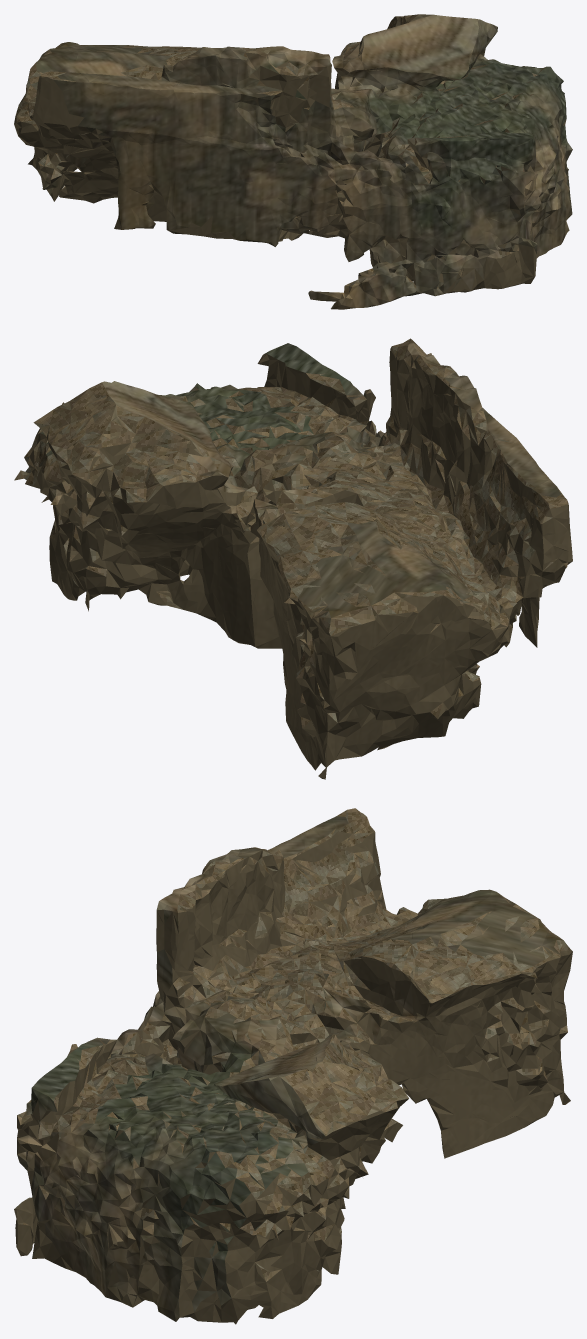
3 views of the same model, one above another, from view 1: azimuth 30°, elevation 25°; view 2: azimuth 150°, elevation 25°; view 3: azimuth 270°, elevation 25° (orthographic). The views are drawn at different scales.
Visible parts, largest first — view 1: painted, wall, roof; view 2: wall, roof, painted; view 3: wall, painted, roof.
Part boxes in pixels (x1,y1,x2,y2): painted: (27,14,572,309); wall: (14,16,572,301); roof: (15,14,545,293); wall: (25,350,572,779); roof: (14,339,568,748); painted: (40,338,561,706); wall: (14,831,572,1324); painted: (14,816,562,1321); roof: (17,808,572,1281).
Bounding box in the file's own units: 6.52 × 3.05 × 5.31.
3 materials, 3 textured.
